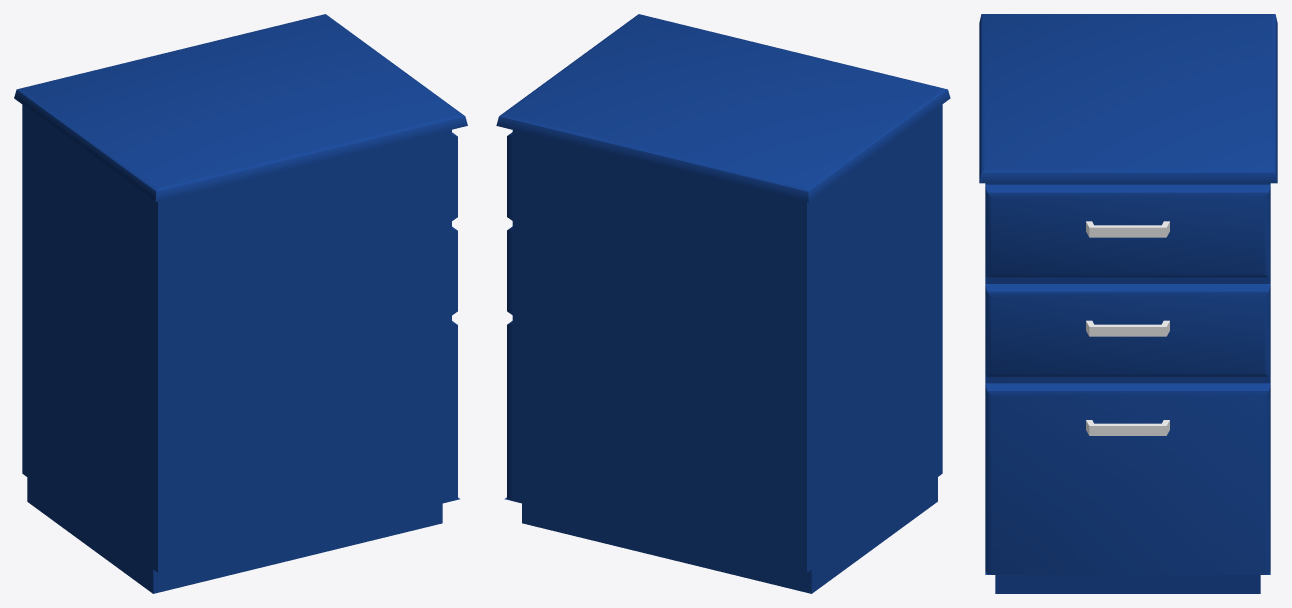
Rendered from officeCasier.fbx.
The picture shows the model from 3 angles, left to right: view 1: azimuth 30°, elevation 25°; view 2: azimuth 150°, elevation 25°; view 3: azimuth 270°, elevation 25°; orthographic projection. The views are drawn at different scales.
Visible parts, largest first — view 1: office_furniture; view 2: office_furniture; view 3: office_furniture.
Part boxes in pixels (x1,y1,x2,y2): office_furniture: [14, 14, 467, 593]; office_furniture: [496, 14, 950, 593]; office_furniture: [979, 14, 1277, 593].
Bounding box in the file's own units: 443 × 543 × 340.
